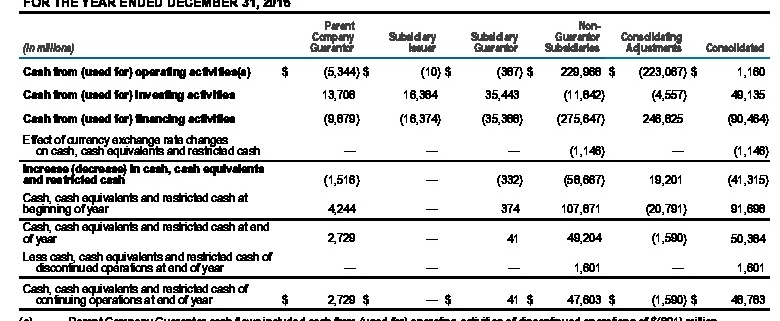table: (0, 0, 780, 321)
